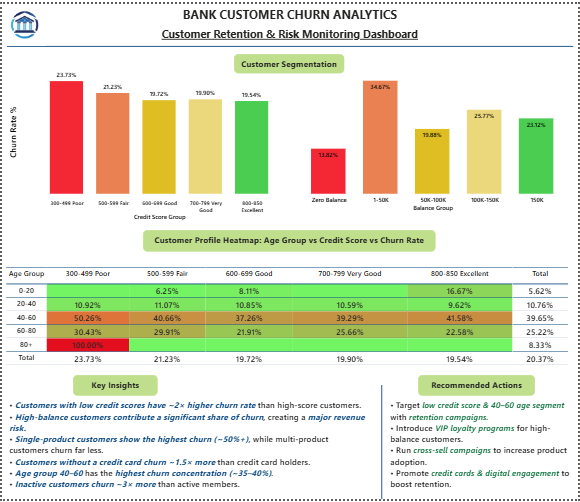

This screenshot's page, from the dashboard's own definition file:
{"tool":"powerbi","page":{"name":"Churn Drivers & Customer Insights","canvas":[1280,1100],"ordinal":1},"visuals":[{"type":"textbox","box":[382.1,0,515.7,54.3],"z":0},{"type":"shape","box":[10.7,78.6,1258.6,32.9],"z":1000},{"type":"textbox","box":[331.4,44.3,617.1,51.4],"z":2000},{"type":"textbox","box":[515,111.7,245,43.3],"z":3000},{"type":"shape","box":[788,846,110,254],"z":7000},{"type":"textbox","box":[158,824,188,46],"z":8000},{"type":"clusteredColumnChart","fields":{"Y":["Bank_Churn.Churn Rate"],"Category":["Bank_Churn.Balance Group"]},"box":[635,133.3,645,333.3],"z":11000},{"type":"textbox","box":[312.5,502.5,650,47.5],"z":12000},{"type":"clusteredColumnChart","fields":{"Category":["Bank_Churn.Credit Score Group"],"Y":["Bank_Churn.Churn Rate"]},"box":[10,133.3,630,353.3],"z":15000},{"type":"pivotTable","fields":{"Columns":["Bank_Churn.Credit Score Group"],"Values":["Bank_Churn.Churn Rate"],"Rows":["Bank_Churn.Age Group"]},"box":[5,580,1270,232.5],"z":15001},{"type":"textbox","box":[924,824,260,46],"z":15002},{"type":"textbox","box":[10,874,808,226],"z":15003},{"type":"textbox","box":[858,874,418,226],"z":15004},{"type":"image","box":[0,0,100,93],"z":15005}]}

Visuals, with their boxes in screenshot pixels (x1, y1, x2, y2), scaled from the page's 1280x1100 canvas onto the 580x502 screenshot:
textbox: [173,0,407,25]
shape: [5,36,575,51]
textbox: [150,20,430,44]
textbox: [233,51,344,71]
shape: [357,386,407,501]
textbox: [72,376,157,397]
clusteredColumnChart - Bank_Churn.Churn Rate x Bank_Churn.Balance Group: [288,61,579,213]
textbox: [142,229,436,251]
clusteredColumnChart - Bank_Churn.Credit Score Group x Bank_Churn.Churn Rate: [5,61,290,222]
pivotTable - Bank_Churn.Credit Score Group x Bank_Churn.Churn Rate: [2,265,578,371]
textbox: [419,376,536,397]
textbox: [5,399,371,501]
textbox: [389,399,578,501]
image: [0,0,45,42]
